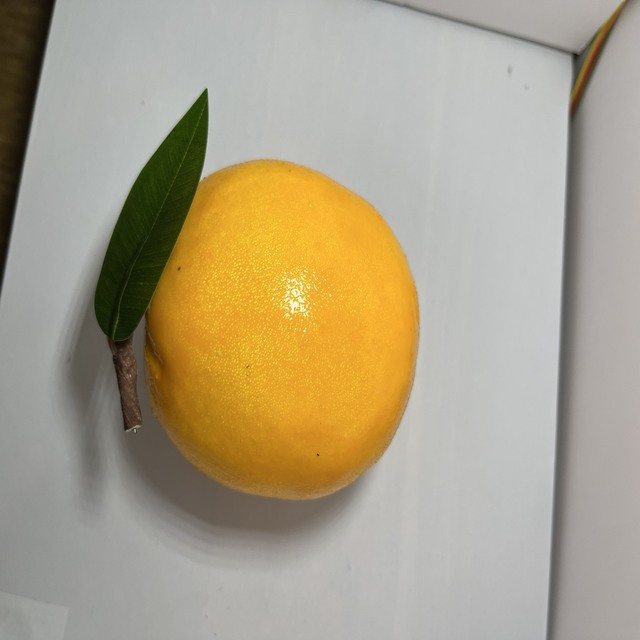Cam vang: (112, 146, 422, 510)
